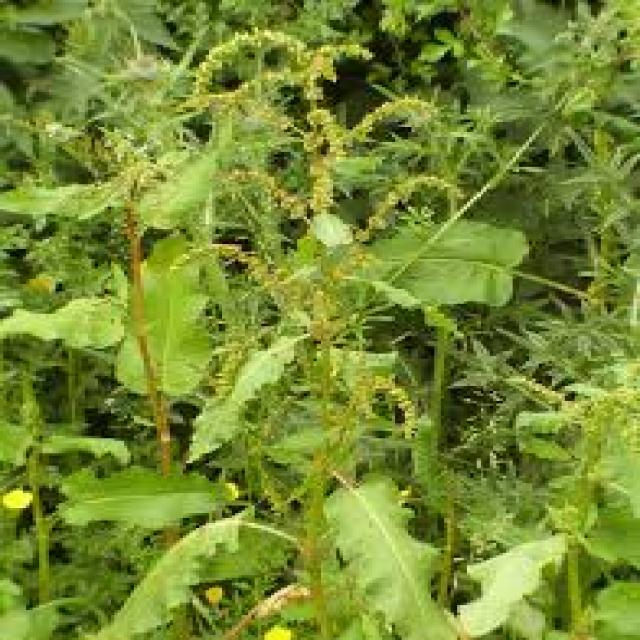organic waste: (49, 137, 611, 640)
